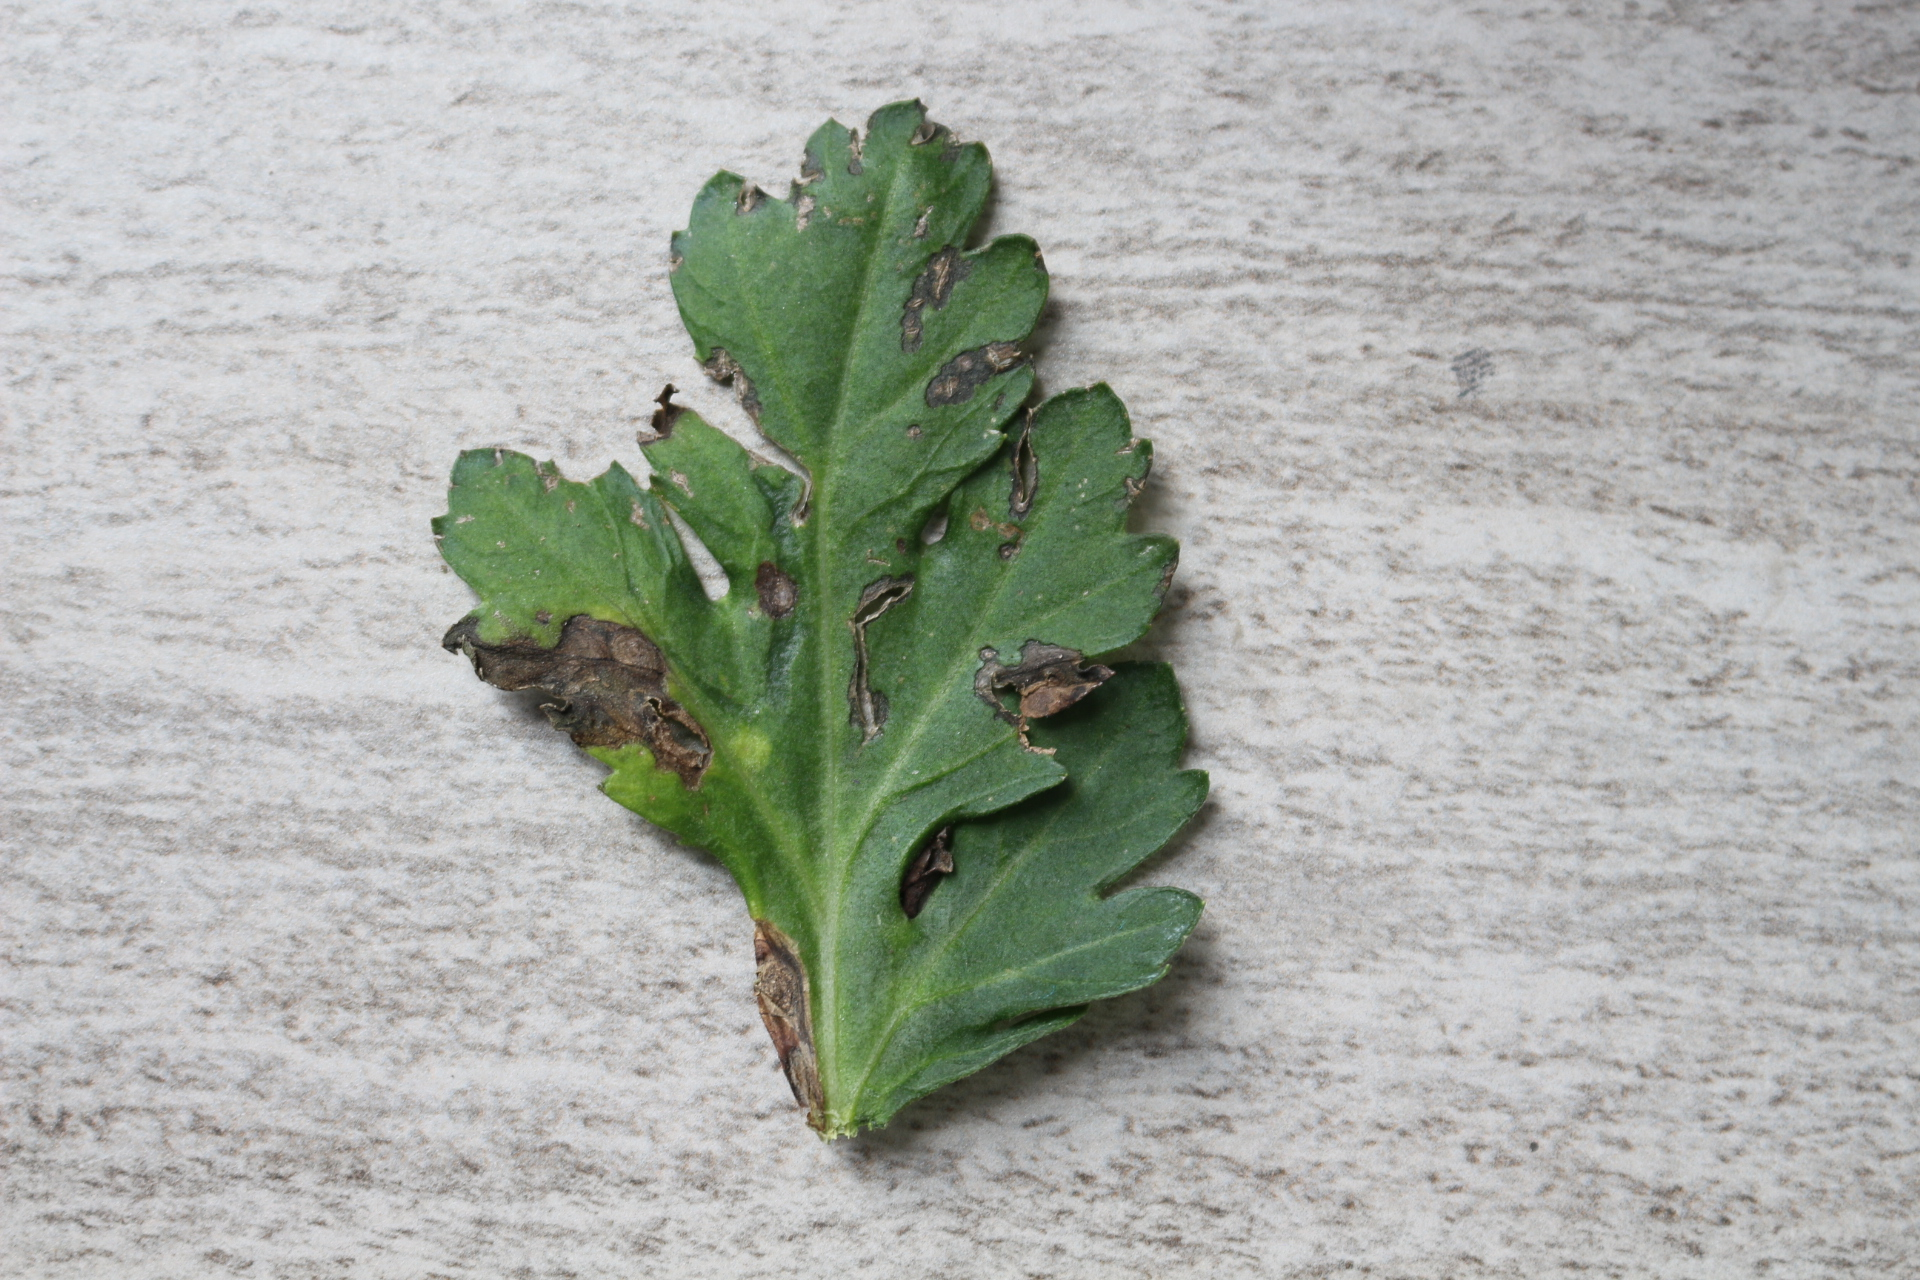namden: (900, 817, 956, 914), (753, 563, 797, 619)
